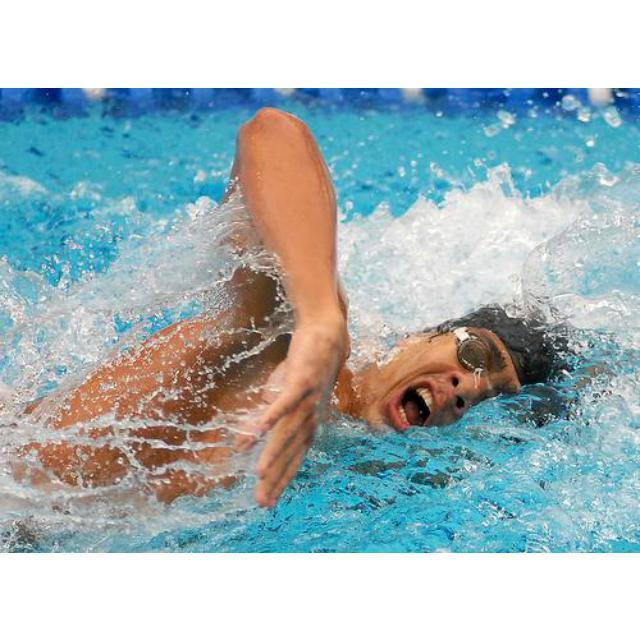human: (1, 104, 582, 540)
